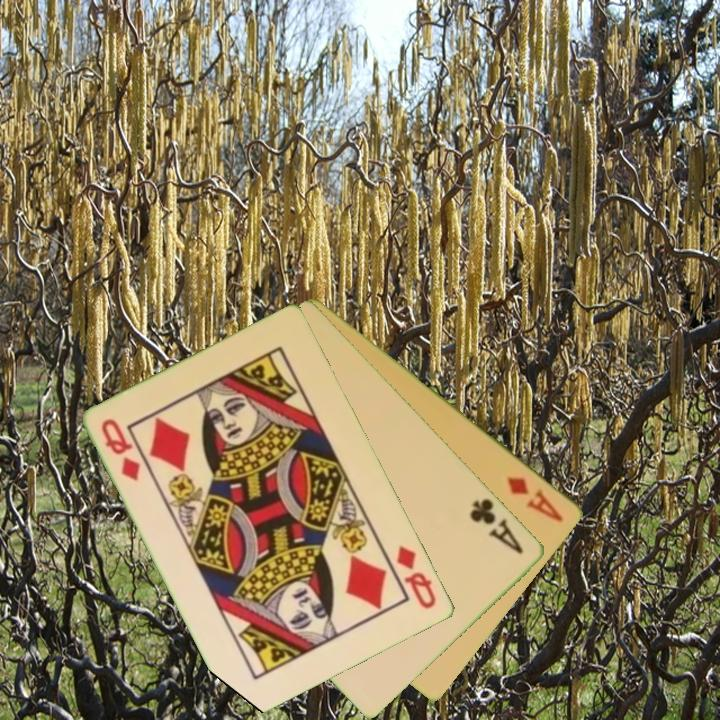Ac: (466, 494, 527, 557)
Ad: (503, 472, 567, 525)
Qd: (393, 542, 440, 613), (98, 415, 144, 485)
